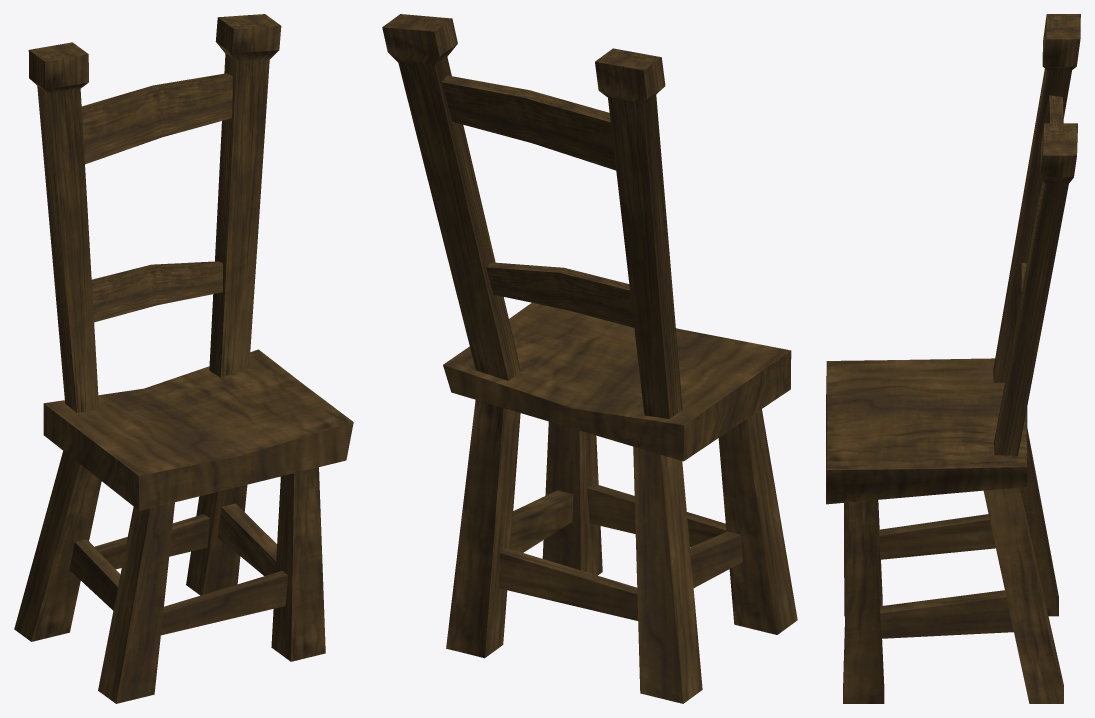
Rendered from chair_bar.fbx.
3 views of the same model, side by side, from view 1: azimuth 30°, elevation 25°; view 2: azimuth 150°, elevation 25°; view 3: azimuth 270°, elevation 25° (orthographic). The views are drawn at different scales.
Parts seen in each view (by area): view 1: polySurface9, polySurface13, polySurface12, polySurface49, polySurface10, polySurface48, polySurface5, polySurface6, polySurface50, polySurface11, polySurface51, polySurface52 (+1 smaller); view 2: polySurface9, polySurface13, polySurface12, polySurface10, polySurface11, polySurface49, polySurface5, polySurface48, polySurface6, polySurface8, polySurface50, polySurface51 (+1 smaller); view 3: polySurface9, polySurface13, polySurface11, polySurface48, polySurface12, polySurface51, polySurface52, polySurface10, polySurface5, polySurface49, polySurface6.
Part boxes in pixels (box(x1,y1,x2,y2)): polySurface9: box(43, 349, 353, 510); polySurface13: box(209, 14, 281, 377); polySurface12: box(28, 42, 98, 412); polySurface49: box(98, 502, 174, 703); polySurface10: box(14, 451, 101, 641); polySurface48: box(271, 467, 325, 661); polySurface5: box(81, 73, 232, 164); polySurface6: box(91, 261, 222, 322); polySurface50: box(161, 571, 287, 635); polySurface11: box(186, 485, 247, 595); polySurface51: box(217, 503, 276, 575); polySurface52: box(69, 539, 120, 610); polySurface9: box(443, 303, 791, 461); polySurface13: box(382, 14, 520, 380); polySurface12: box(595, 48, 682, 418); polySurface10: box(633, 446, 702, 703); polySurface11: box(446, 400, 520, 658); polySurface49: box(718, 409, 797, 634); polySurface5: box(441, 75, 616, 170); polySurface48: box(542, 421, 602, 575); polySurface6: box(486, 262, 634, 327); polySurface8: box(499, 548, 638, 620); polySurface50: box(587, 483, 726, 546); polySurface51: box(510, 490, 573, 552); polySurface9: box(826, 358, 1027, 504); polySurface13: box(993, 123, 1077, 455); polySurface11: box(983, 487, 1063, 703); polySurface48: box(843, 500, 884, 703); polySurface12: box(993, 14, 1080, 382); polySurface51: box(880, 590, 1013, 638); polySurface52: box(879, 514, 995, 559); polySurface10: box(1020, 428, 1058, 616); polySurface5: box(1036, 95, 1063, 195); polySurface49: box(844, 500, 882, 616); polySurface6: box(1012, 262, 1026, 343).
Bounding box in the file's own units: 173 × 359 × 139.
1 material, 1 textured.
